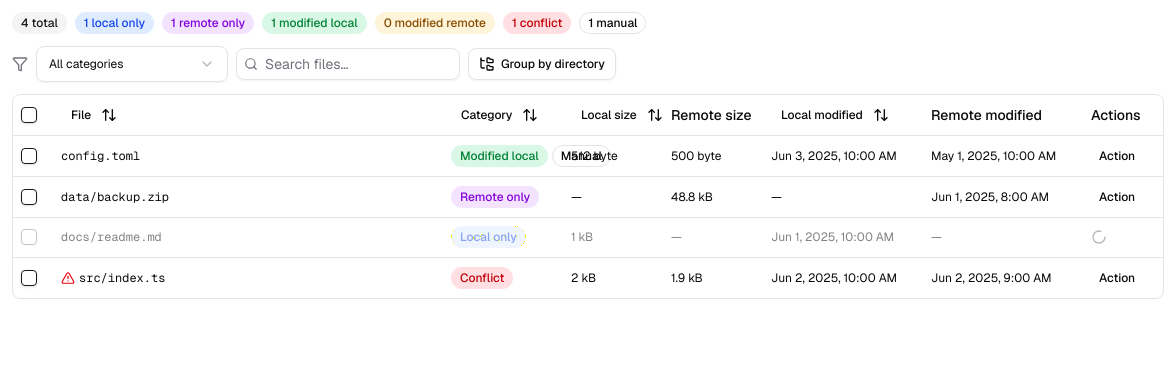
FileBrowser pending row behavior › select-all skips pending paths
This screenshot has width=1164, height=378.
Step 1. Click the checkbox named "Select all files" → coordinates (29, 115), box 21,107 -> 37,123
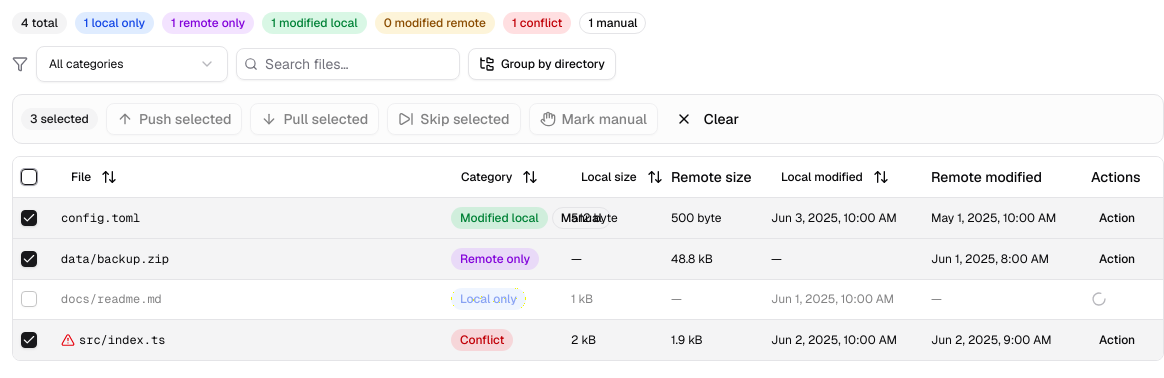
Result: the text "3 selected" is shown at 21,108 -> 98,130
